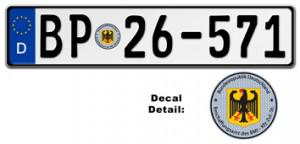1: (263, 13, 287, 59)
2: (123, 14, 147, 59)
5: (207, 13, 232, 59)
6: (150, 14, 174, 59)
7: (235, 13, 259, 60)
B: (39, 13, 63, 59)
P: (68, 12, 92, 59)
